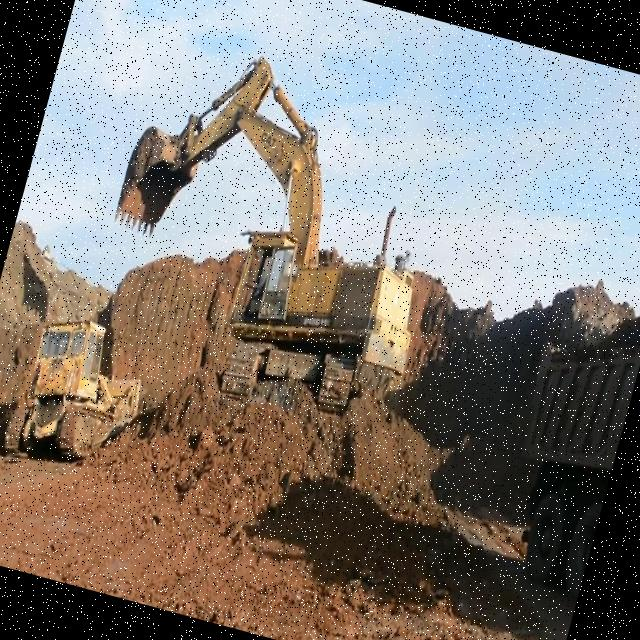Dump Truck: (482, 316, 640, 591)
Excavator: (69, 21, 477, 437)
Loader: (0, 299, 159, 481)
